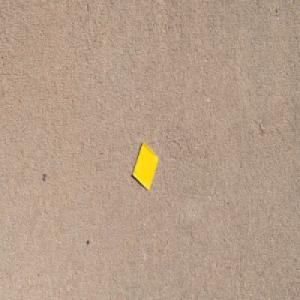PlasticPart: (131, 140, 158, 191)
